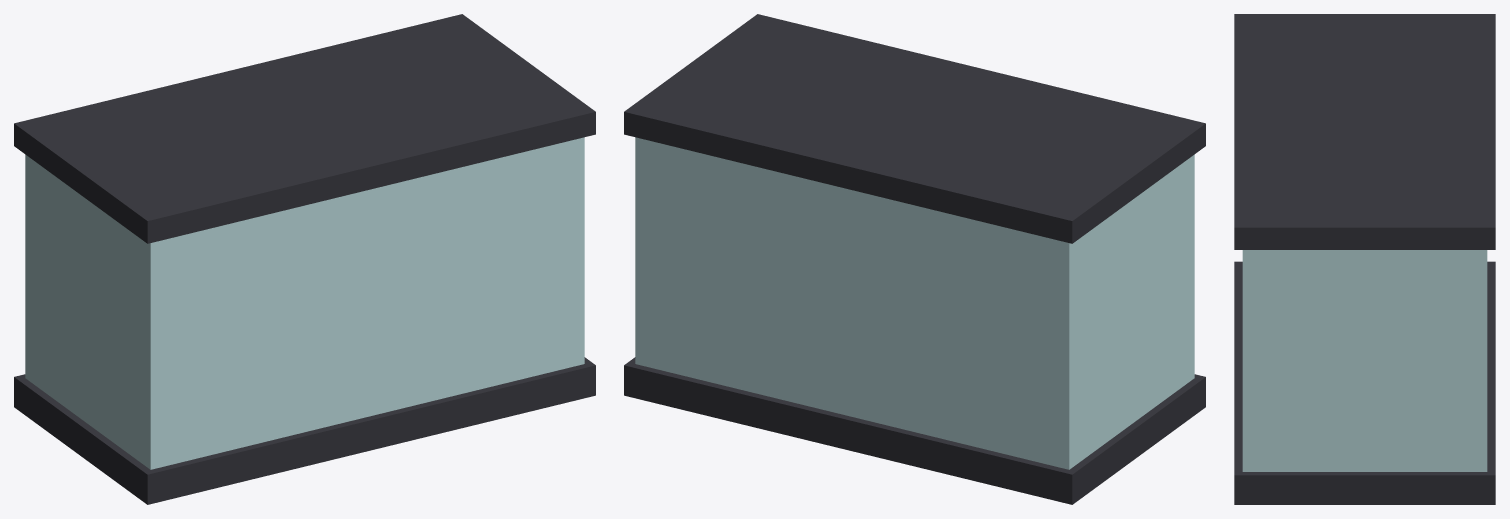
File: sm_product_fish_tank.glb
3 renders of one model, left to right at view 1: azimuth 30°, elevation 25°; view 2: azimuth 150°, elevation 25°; view 3: azimuth 270°, elevation 25°, orthographic. The views are drawn at different scales.
Visible parts, largest first — view 1: fish_tank_0, fish_tank_2, fish_tank_1; view 2: fish_tank_0, fish_tank_2, fish_tank_1; view 3: fish_tank_2, fish_tank_0, fish_tank_1.
Boxes of the visible parts, left/top/right/bottom form: fish_tank_0: left=25, top=137, right=584, bottom=469; fish_tank_2: left=14, top=14, right=595, bottom=243; fish_tank_1: left=14, top=357, right=595, bottom=504; fish_tank_0: left=635, top=137, right=1194, bottom=469; fish_tank_2: left=624, top=14, right=1205, bottom=243; fish_tank_1: left=624, top=357, right=1205, bottom=504; fish_tank_2: left=1234, top=14, right=1495, bottom=249; fish_tank_0: left=1242, top=250, right=1487, bottom=471; fish_tank_1: left=1234, top=261, right=1495, bottom=504.
Size of what is drawn, in the model's own units: 0.62 by 0.375 by 0.32.
